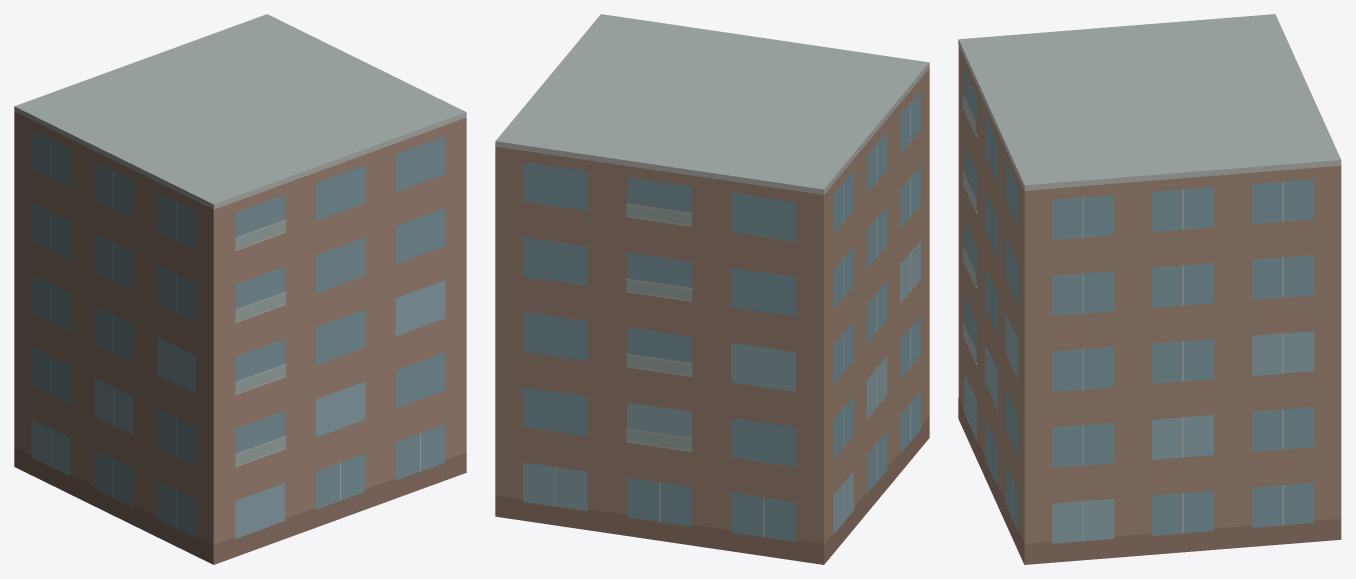
File: survey-upis-32696235.glb
The picture shows the model from 3 angles, left to right: view 1: azimuth 30°, elevation 25°; view 2: azimuth 150°, elevation 25°; view 3: azimuth 270°, elevation 25°; orthographic projection. The views are drawn at different scales.
Parts seen in each view (by area): view 1: survey-upis-32696235.tmp; view 2: survey-upis-32696235.tmp; view 3: survey-upis-32696235.tmp.
Part boxes in pixels (bbox=[...]): survey-upis-32696235.tmp: bbox=[14, 14, 466, 564]; survey-upis-32696235.tmp: bbox=[495, 14, 929, 564]; survey-upis-32696235.tmp: bbox=[958, 14, 1341, 564].
Bounding box in the file's own units: 16.17 × 16.7 × 15.28.
